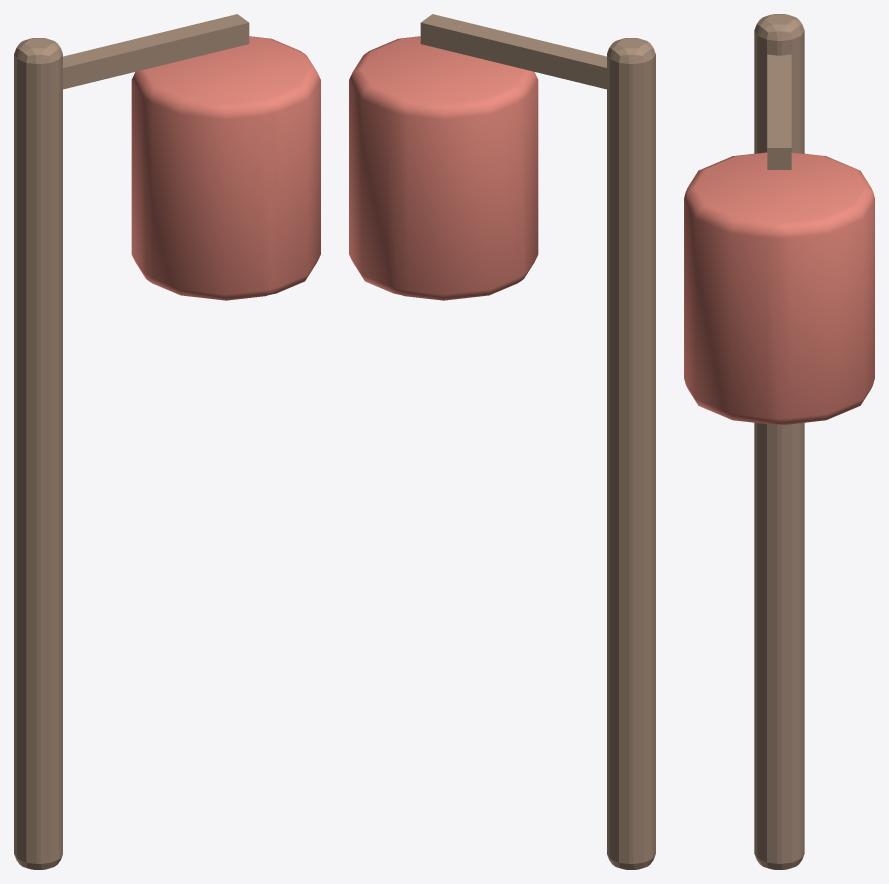
File: lm_china_lantern.glb
3 renders of one model, left to right at view 1: azimuth 30°, elevation 25°; view 2: azimuth 150°, elevation 25°; view 3: azimuth 270°, elevation 25°, orthographic. The views are drawn at different scales.
Visible parts, largest first — view 1: lm_china_lantern; view 2: lm_china_lantern; view 3: lm_china_lantern.
Boxes of the visible parts, left/top/right/bottom form: lm_china_lantern: left=14, top=14, right=320, bottom=869; lm_china_lantern: left=349, top=14, right=655, bottom=869; lm_china_lantern: left=684, top=14, right=874, bottom=869.
Bounding box in the file's own units: 0.8461 × 2.3 × 0.4709.
